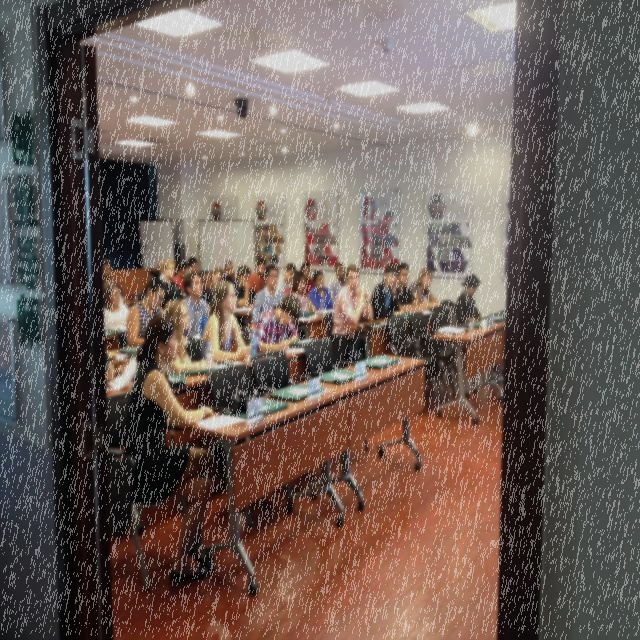pessoa: (121, 312, 216, 584), (330, 263, 374, 371), (200, 281, 253, 363), (164, 298, 214, 374), (126, 276, 168, 350), (253, 293, 302, 353), (370, 262, 407, 322), (251, 264, 288, 324), (180, 271, 210, 341), (396, 262, 430, 314), (425, 222, 467, 261), (454, 272, 484, 326), (102, 280, 132, 334), (362, 224, 398, 268), (234, 264, 256, 332), (101, 258, 132, 306), (304, 223, 336, 266), (158, 258, 184, 310), (408, 268, 441, 308), (290, 270, 318, 314), (308, 268, 336, 312), (256, 222, 280, 266), (328, 262, 346, 308), (248, 258, 268, 296), (276, 262, 296, 297), (196, 270, 214, 308), (102, 344, 116, 392), (171, 260, 188, 297), (222, 259, 240, 290), (300, 262, 315, 296), (148, 258, 164, 280), (210, 266, 223, 292), (186, 256, 198, 274)
